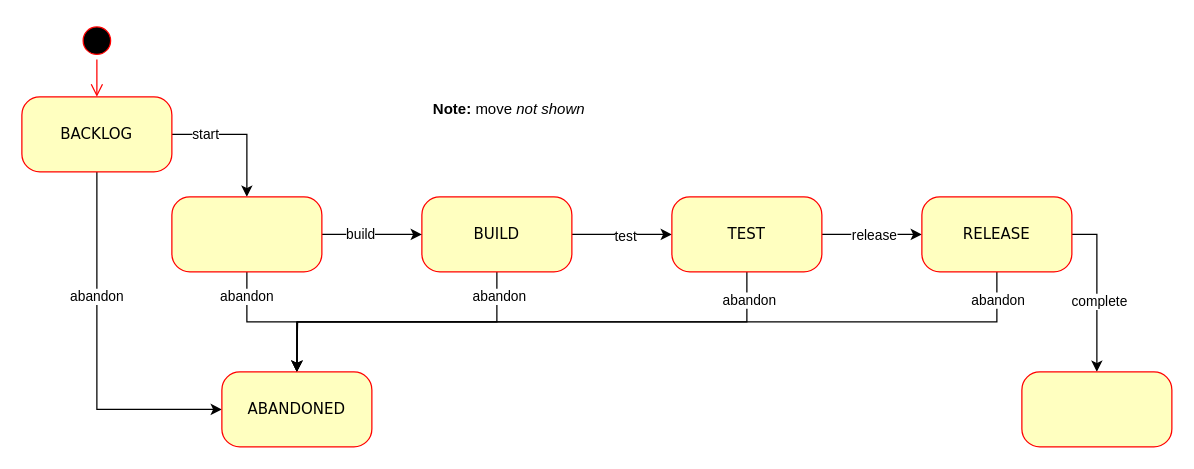
This 1194x469 diagram has some shape labels left out. Here are the shapes that lost their labels. From the top down, the centre of each, then its label:
At [246,234]: "DESIGN".
At [1096,409]: "DONE".
